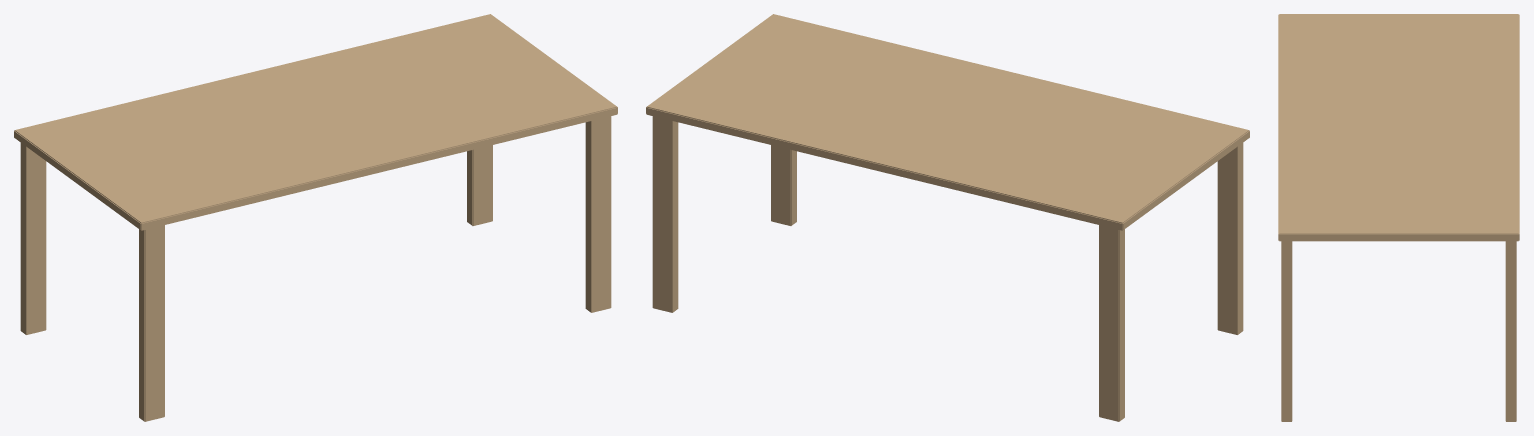
3 renders of one model, left to right at view 1: azimuth 30°, elevation 25°; view 2: azimuth 150°, elevation 25°; view 3: azimuth 270°, elevation 25°, orthographic. The views are drawn at different scales.
Visible parts, largest first — view 1: uas-45-dining-table; view 2: uas-45-dining-table; view 3: uas-45-dining-table.
Boxes of the visible parts, <box> form: uas-45-dining-table: <box>14,14,617,421</box>; uas-45-dining-table: <box>646,14,1249,421</box>; uas-45-dining-table: <box>1278,14,1519,421</box>.
Bounding box in the file's own units: 1.86 × 0.75 × 0.86.
